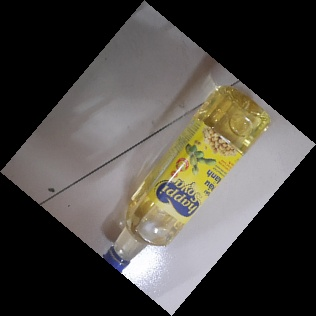Happy Soya: (99, 84, 271, 275)
